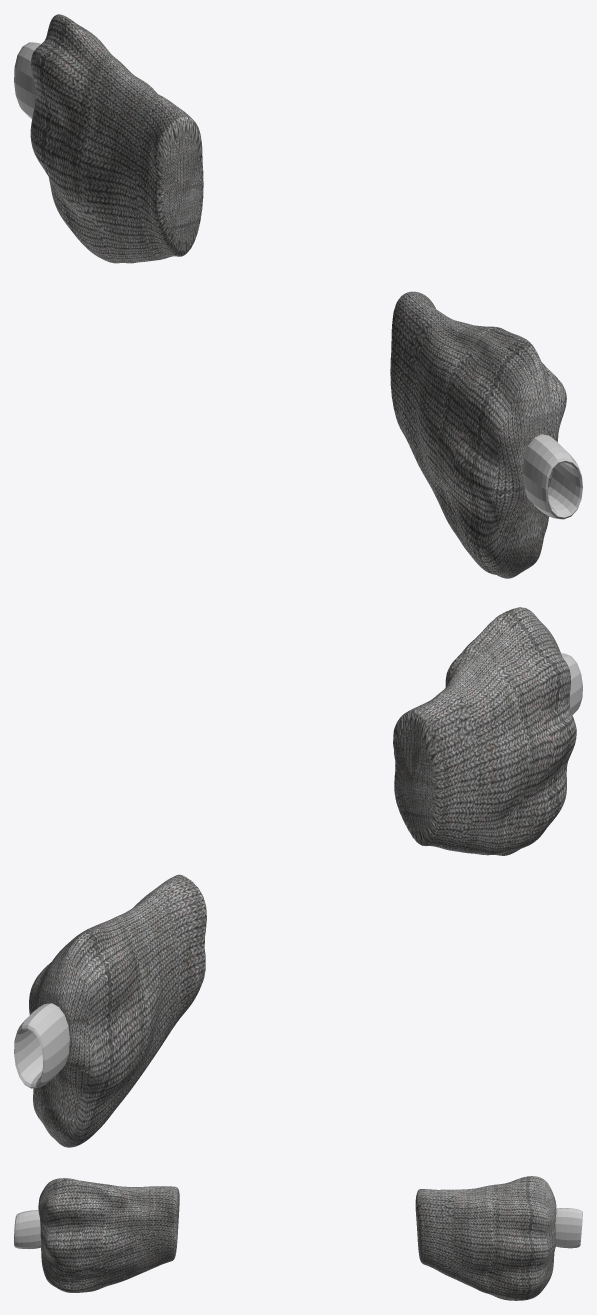
File: bishop-sleeve-half.fbx
3 views of the same model, one above another, from view 1: azimuth 30°, elevation 25°; view 2: azimuth 150°, elevation 25°; view 3: azimuth 270°, elevation 25° (orthographic). The views are drawn at different scales.
Parts seen in each view (by area): view 1: Cylinder.001, Cylinder, Cube.006, Cube.003; view 2: Cylinder.001, Cylinder, Cube.003; view 3: Cylinder, Cylinder.001, Cube.003, Cube.006.
Part boxes in pixels (x1,y1,x2,y2): Cylinder.001: (390, 291, 566, 578); Cylinder: (30, 14, 203, 263); Cube.006: (523, 434, 582, 519); Cube.003: (14, 42, 40, 119); Cylinder.001: (393, 607, 576, 855); Cylinder: (29, 874, 206, 1147); Cube.003: (14, 1003, 69, 1088); Cylinder: (415, 1176, 556, 1300); Cylinder.001: (38, 1178, 179, 1292); Cube.003: (555, 1208, 582, 1248); Cube.006: (14, 1210, 41, 1249).
Size of the model in its own units: 40.26 by 83.15 by 357.
